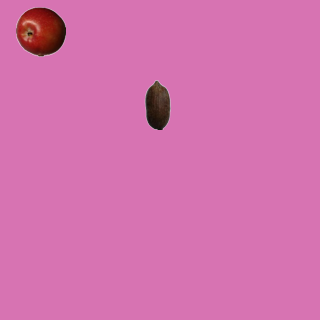Apple Braeburn: (15, 6, 65, 56)
Nut Pecan: (132, 79, 182, 129)
